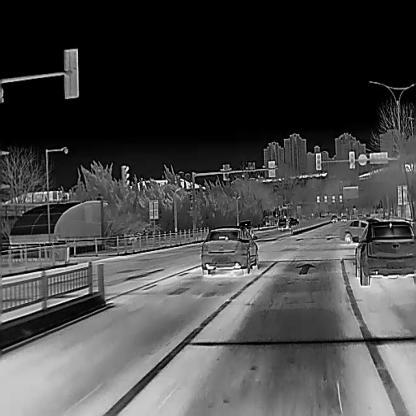car: (355, 219, 416, 286), (200, 224, 258, 275), (339, 218, 382, 244), (237, 220, 253, 238), (287, 218, 299, 228), (277, 217, 286, 230), (331, 214, 338, 222), (340, 214, 346, 222)
